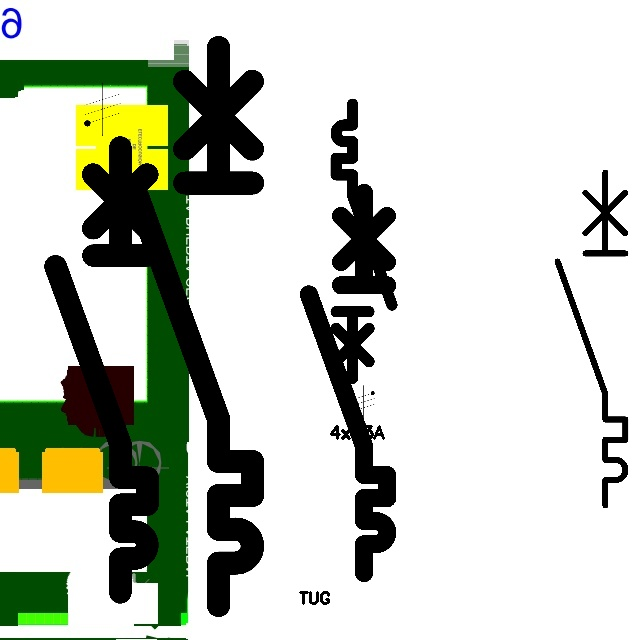interruptor_termomagnetico: (123, 33, 267, 620), (44, 136, 159, 604), (299, 183, 397, 583), (549, 164, 634, 514), (329, 97, 399, 386)
